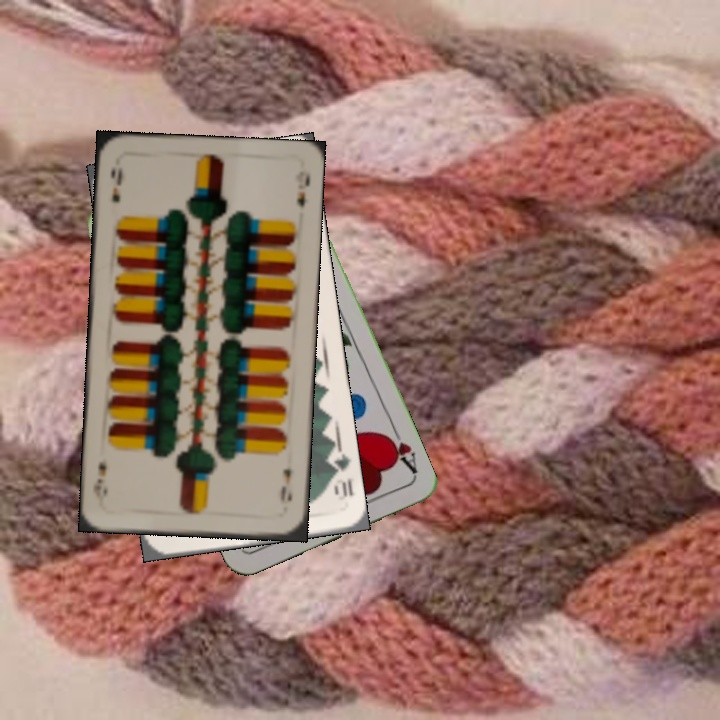E9: (107, 163, 125, 205), (276, 464, 294, 505)
G10: (323, 447, 356, 500)
HA: (379, 422, 421, 478)
